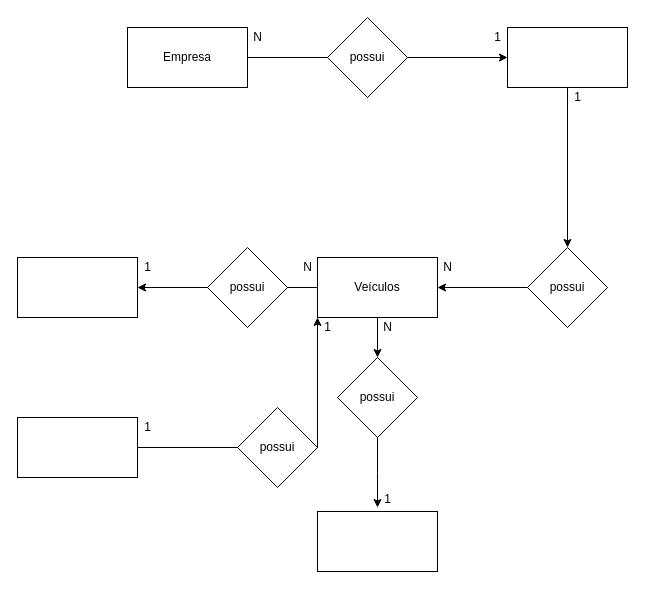
Some shapes in this 645 by 589 pixel diagram are drawn without their labels. Each missing label, with the centre of its shape:
cliente: the point at 567,57
Marca: the point at 377,541
Modelo: the point at 77,287
Placa: the point at 77,447
